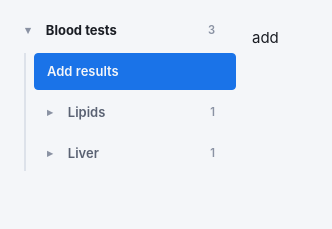
Test: MetricExplorer subgroups › nests subgroups under their group, each collapsed until opened
Expected: the button "▾ Blood tests 3" is shown, 12,12 -> 236,49
Expected: the button "Add results" is shown, 34,53 -> 236,90
Click the button "▸ Lipids 1" at point(135, 112), box 34,94 -> 236,130
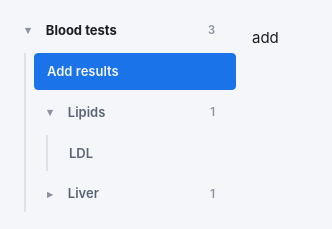
Expected: the button "LDL" is shown, 56,134 -> 236,171
